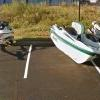Boat: (44, 14, 100, 68)
